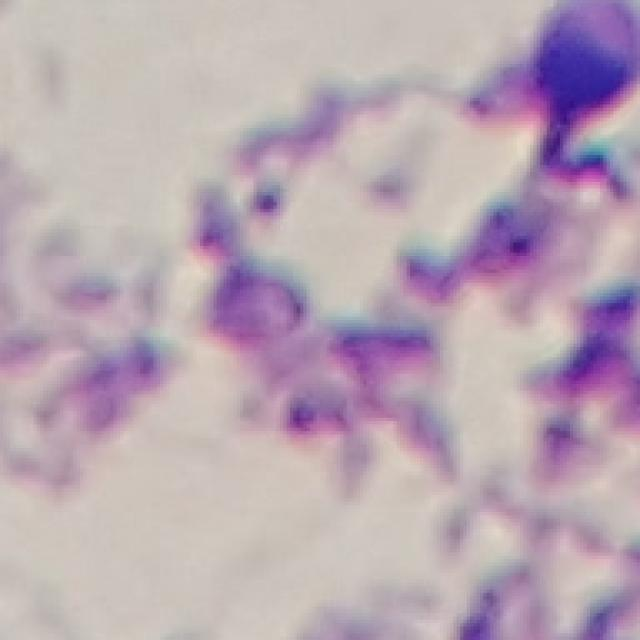non-sperm: (201, 250, 456, 465)
